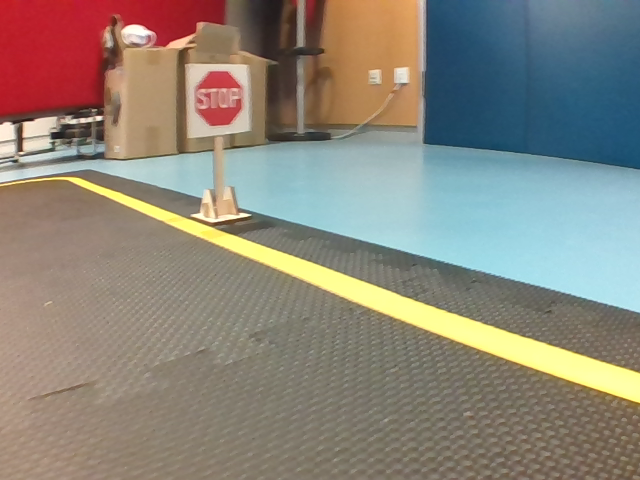stop: (187, 64, 252, 132)
